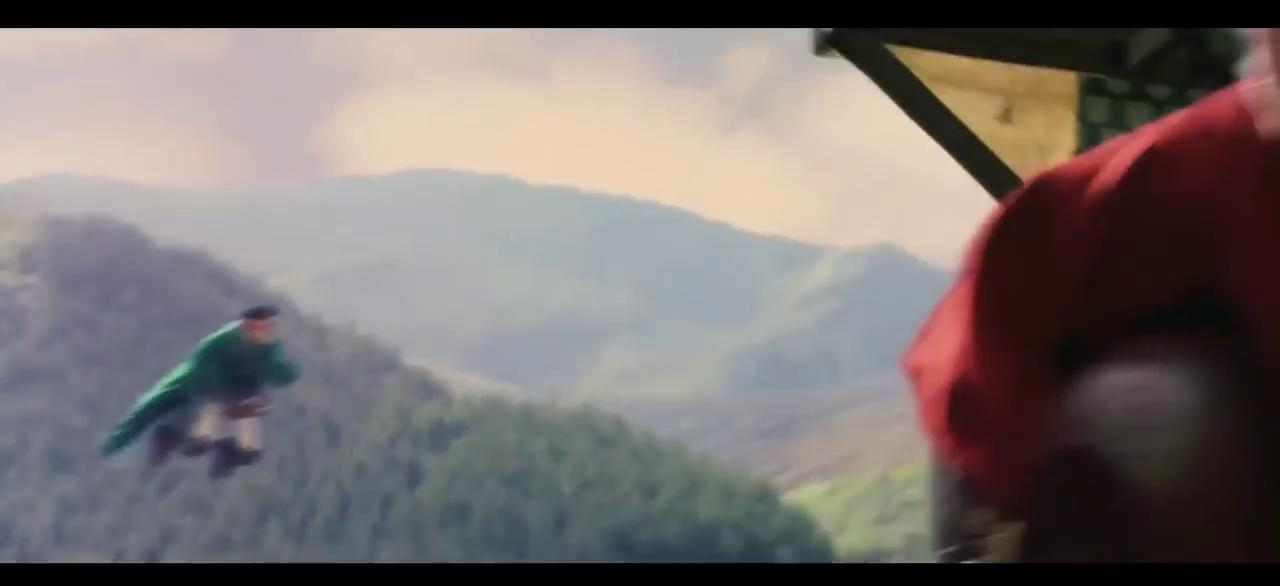quaffle: (1039, 358, 1248, 559)
